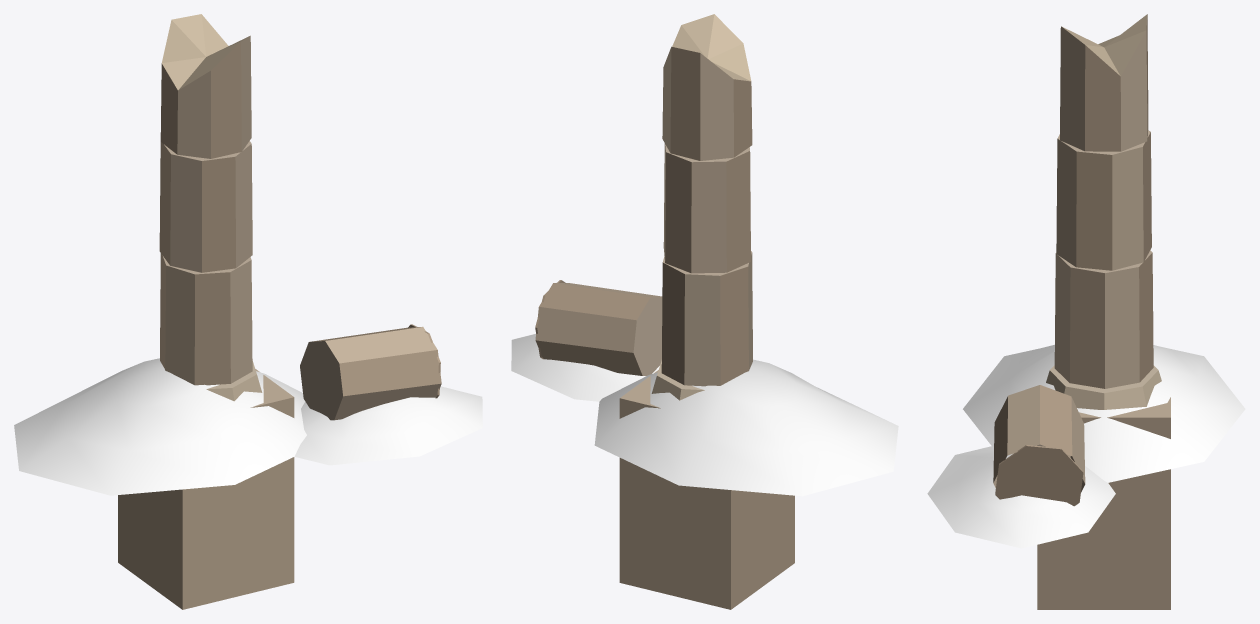
The model's file is ruinas_columna_b_ligero.glb.
3 renders of one model, left to right at view 1: azimuth 30°, elevation 25°; view 2: azimuth 150°, elevation 25°; view 3: azimuth 270°, elevation 25°, orthographic. The views are drawn at different scales.
Parts seen in each view (by area): view 1: ruinas_columna_b, ruinas_columna_b_arena; view 2: ruinas_columna_b, ruinas_columna_b_arena; view 3: ruinas_columna_b, ruinas_columna_b_arena.
Part boxes in pixels (x1=…): ruinas_columna_b: x1=118, y1=14, x2=441, y2=609; ruinas_columna_b_arena: x1=14, y1=358, x2=482, y2=495; ruinas_columna_b: x1=535, y1=14, x2=794, y2=609; ruinas_columna_b_arena: x1=511, y1=334, x2=898, y2=496; ruinas_columna_b: x1=993, y1=14, x2=1170, y2=609; ruinas_columna_b_arena: x1=927, y1=344, x2=1245, y2=548.
Bounding box in the file's own units: 4.3 × 5.27 × 2.7.
